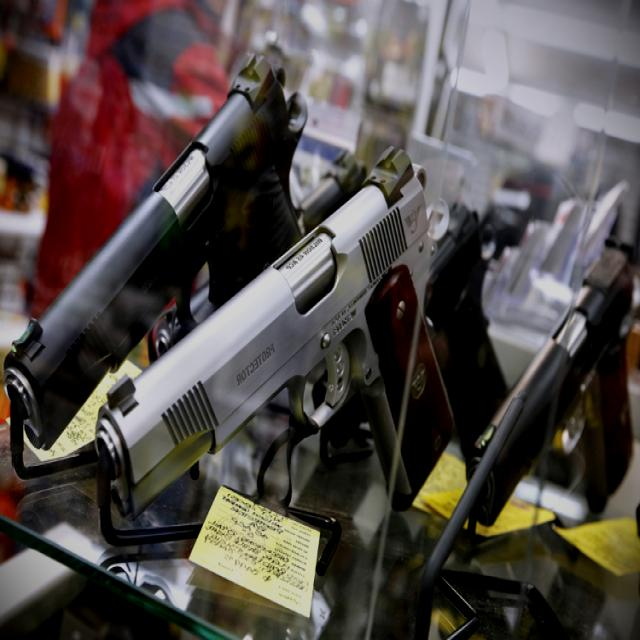pistol: (93, 141, 493, 518), (8, 42, 322, 443), (414, 219, 637, 591)
